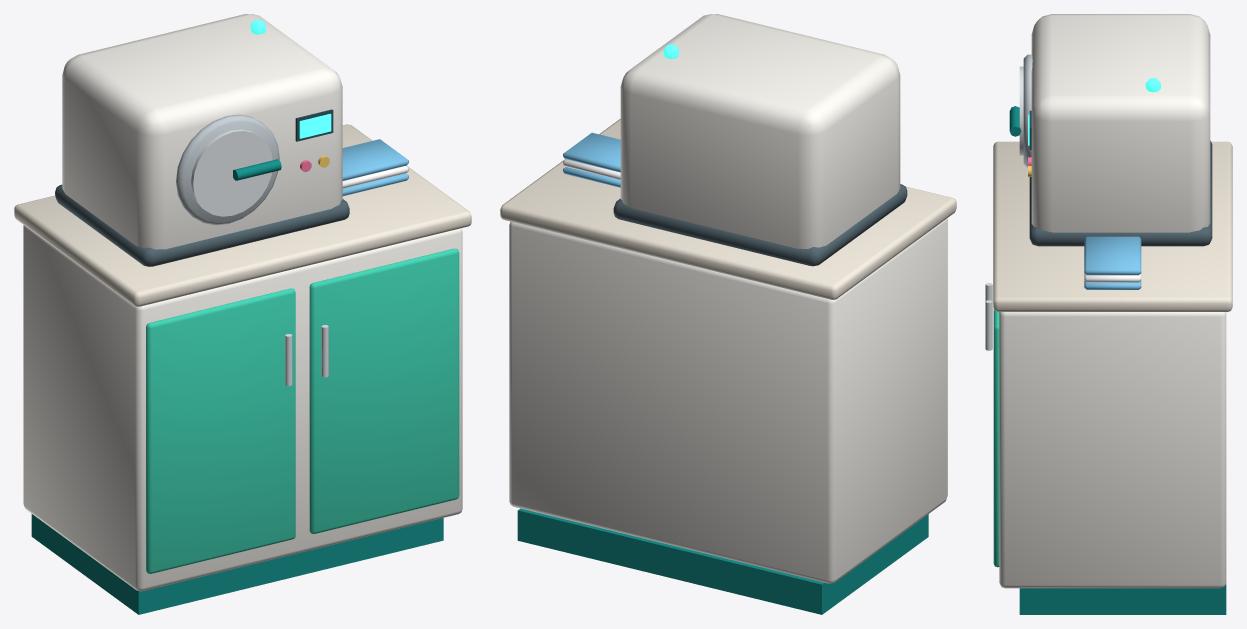
The model's file is sterilizer.glb.
3 views of the same model, side by side, from view 1: azimuth 30°, elevation 25°; view 2: azimuth 150°, elevation 25°; view 3: azimuth 270°, elevation 25° (orthographic). The views are drawn at different scales.
Visible parts, largest first — view 1: Sterilizer; view 2: Sterilizer; view 3: Sterilizer.
Boxes of the visible parts, x1,y1,x2,y2 form: Sterilizer: [14, 14, 471, 614]; Sterilizer: [500, 14, 956, 614]; Sterilizer: [985, 14, 1232, 614].
Size of the model in its own units: 0.93 by 1.31 by 0.609.
